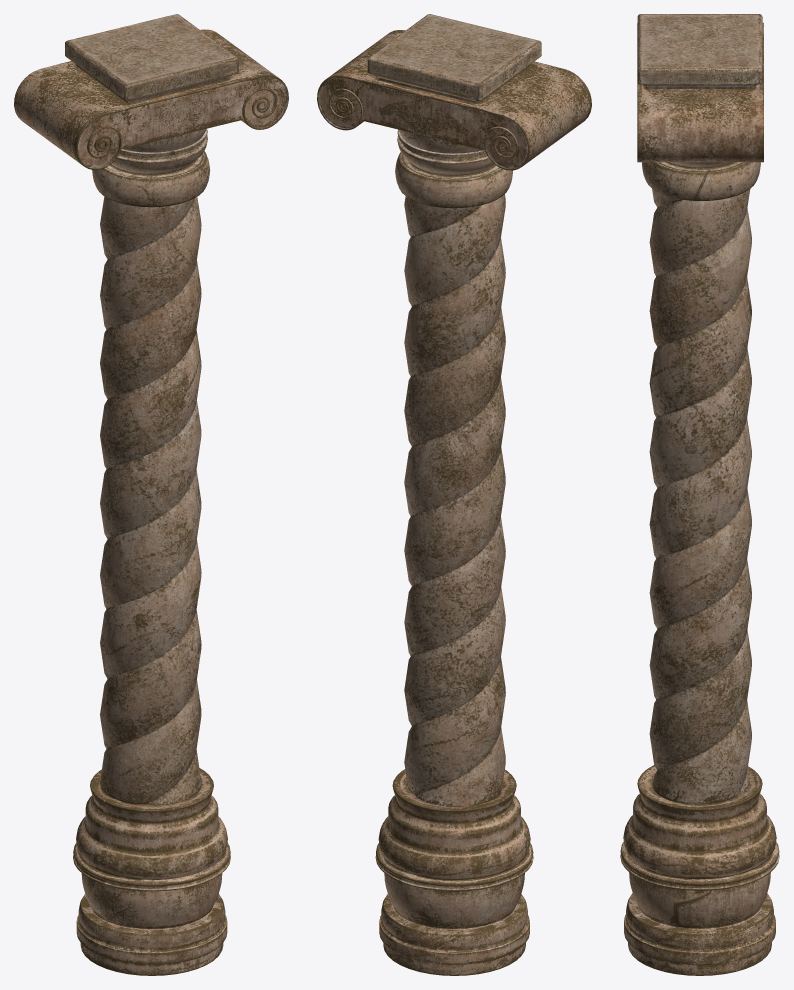
File: greek_underwater_column_2.glb
3 views of the same model, side by side, from view 1: azimuth 30°, elevation 25°; view 2: azimuth 150°, elevation 25°; view 3: azimuth 270°, elevation 25° (orthographic).
Parts seen in each view (by area): view 1: mesh_01_low, mesh_02_low; view 2: mesh_01_low, mesh_02_low; view 3: mesh_01_low, mesh_02_low.
Part boxes in pixels (bbox=[...]): mesh_01_low: bbox=[65, 14, 238, 804]; mesh_02_low: bbox=[14, 29, 288, 975]; mesh_01_low: bbox=[367, 14, 541, 806]; mesh_02_low: bbox=[317, 30, 591, 975]; mesh_01_low: bbox=[637, 14, 762, 804]; mesh_02_low: bbox=[620, 22, 779, 975].
Bounding box in the file's own units: 98.15 × 396 × 63.22.
2 materials, 2 textured.
